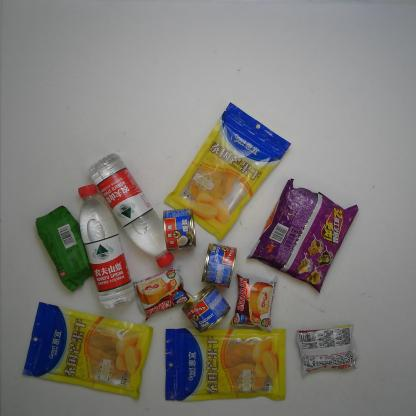Canned Food: (180, 283, 232, 334), (199, 241, 240, 290), (160, 206, 199, 253)
Dessert: (33, 202, 96, 294), (130, 263, 198, 323), (293, 318, 360, 378), (228, 269, 280, 334)
Dried Fruit: (160, 96, 296, 243), (20, 300, 156, 401), (161, 325, 289, 403)
Drink: (84, 150, 177, 271), (74, 182, 137, 311)
Instant Noodles: (244, 174, 362, 297)
